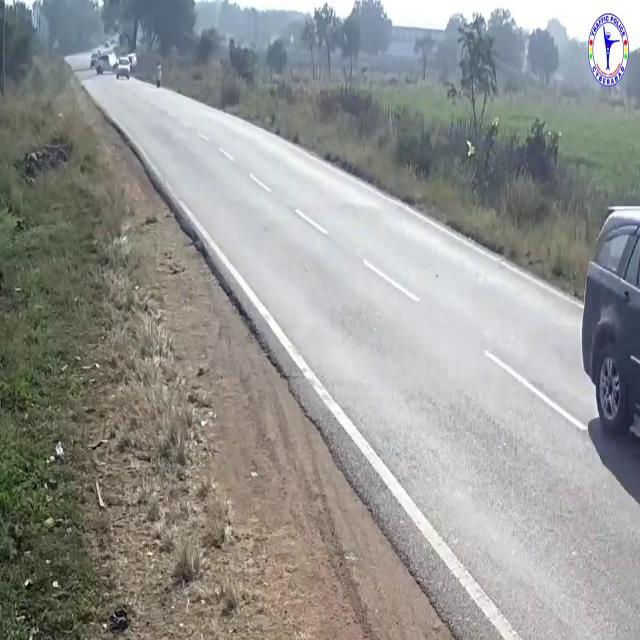accident: (92, 49, 132, 83)
